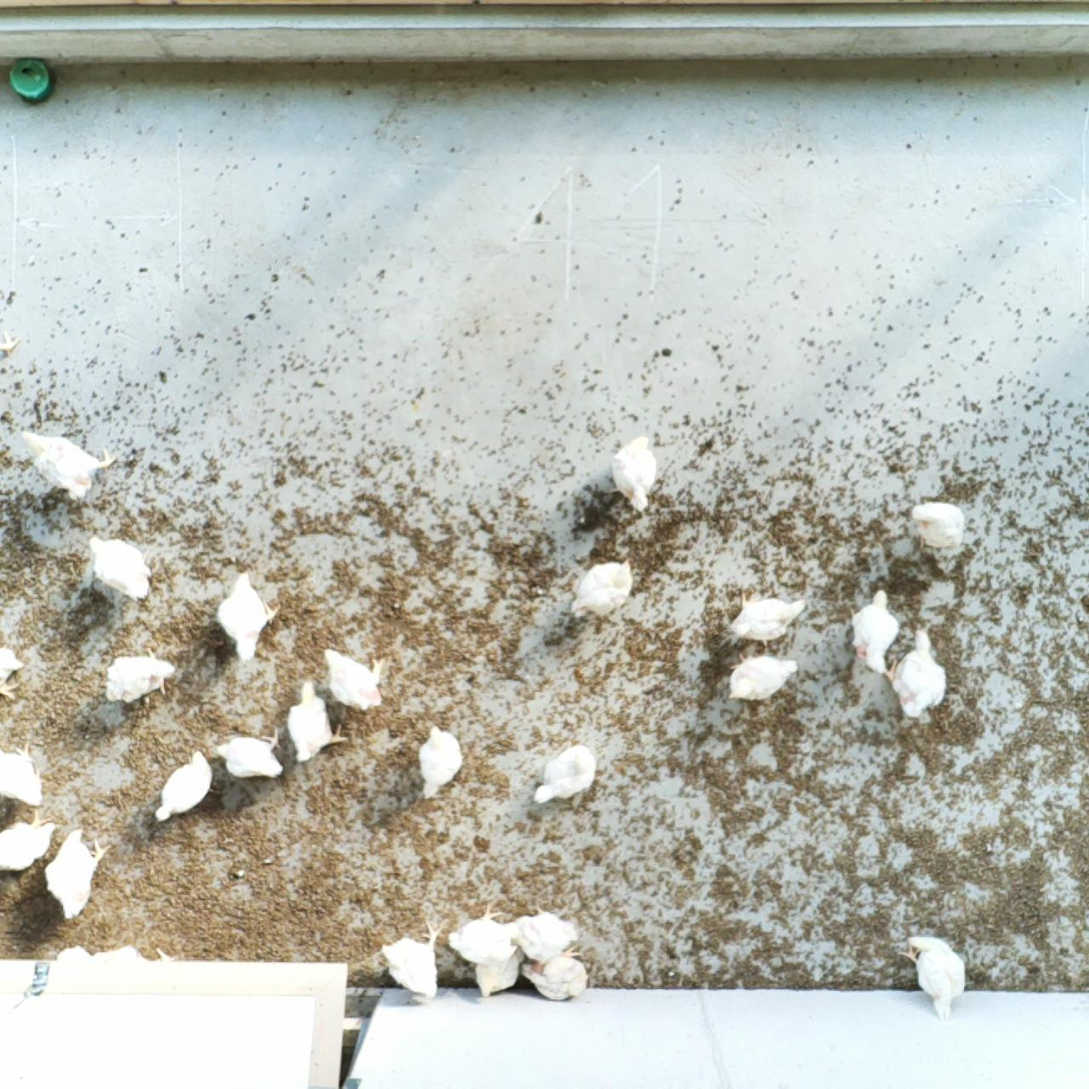chicken: (16, 428, 120, 502), (43, 825, 113, 925), (899, 932, 968, 1022), (380, 919, 449, 1003), (886, 626, 949, 718), (214, 569, 279, 658), (285, 679, 351, 764), (88, 529, 152, 606), (445, 902, 522, 963), (153, 747, 213, 824), (103, 651, 178, 708), (730, 592, 808, 646), (850, 590, 900, 674), (570, 556, 635, 620), (532, 744, 601, 804), (609, 432, 661, 511), (325, 645, 387, 711), (505, 908, 580, 962), (726, 651, 801, 703), (519, 946, 590, 1000), (213, 729, 285, 781), (0, 807, 57, 871), (418, 722, 465, 799), (0, 740, 51, 806), (475, 940, 529, 1002), (912, 499, 966, 554), (94, 943, 176, 972), (0, 642, 24, 703), (55, 944, 96, 972)
